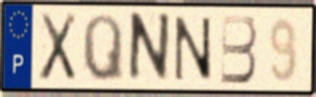9: (268, 16, 301, 85)
B: (219, 13, 259, 86)
N: (125, 10, 173, 87), (173, 14, 215, 83)
Q: (80, 12, 125, 84)
X: (37, 11, 79, 84)
